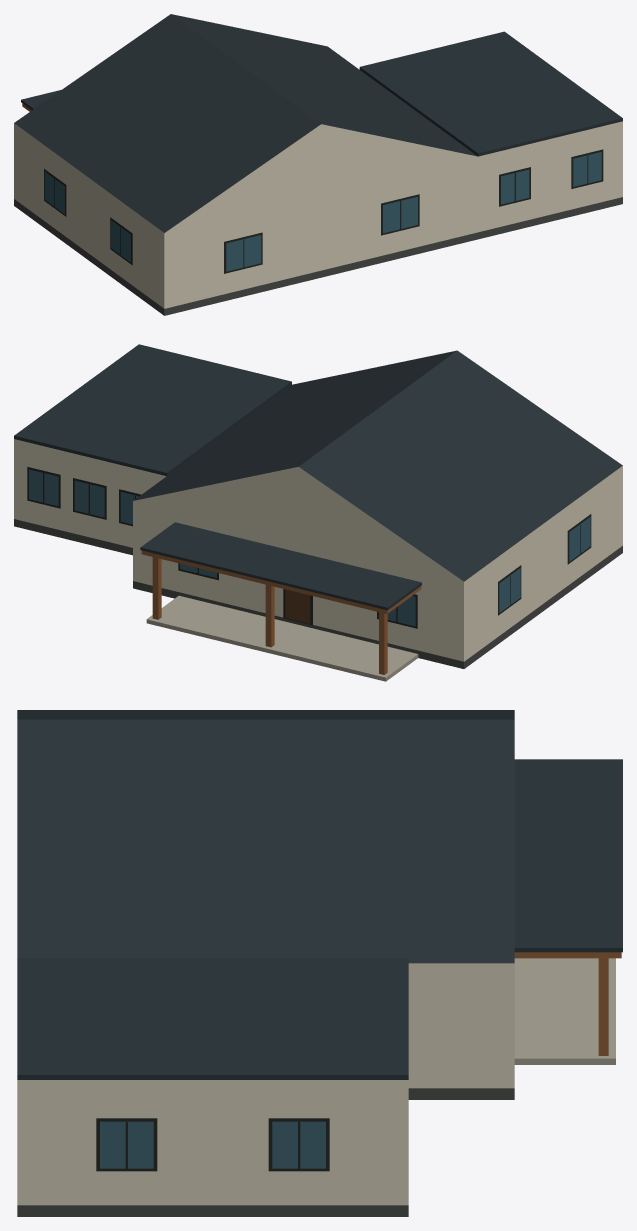
3 views of the same model, one above another, from view 1: azimuth 30°, elevation 25°; view 2: azimuth 150°, elevation 25°; view 3: azimuth 270°, elevation 25° (orthographic). The views are drawn at different scales.
Bounding box in the file's own units: 19.14 × 6.08 × 13.22.
